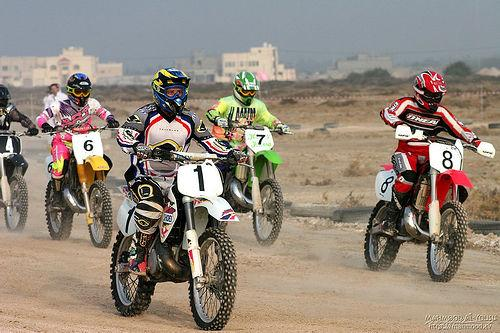motorbike: (109, 147, 236, 331), (355, 118, 490, 283), (38, 122, 114, 251), (212, 118, 283, 246), (2, 119, 31, 233)
